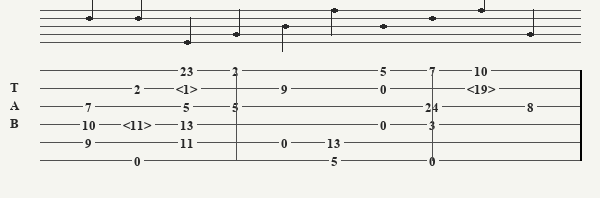0: (134, 154, 145, 167), (281, 136, 292, 149), (380, 118, 391, 131), (380, 82, 391, 95), (429, 154, 440, 167)
10: (82, 118, 100, 131), (474, 64, 492, 77)
11: (180, 136, 198, 149)
13: (180, 118, 198, 131), (327, 136, 345, 149)
2: (134, 82, 145, 95), (232, 64, 243, 77)
23: (180, 64, 198, 77)
24: (425, 100, 443, 113)
3: (429, 118, 440, 131)
5: (183, 100, 194, 113), (232, 100, 243, 113), (331, 154, 342, 167), (380, 64, 391, 77)
7: (85, 100, 96, 113), (429, 64, 440, 77)
8: (527, 100, 538, 113)
9: (85, 136, 96, 149), (281, 82, 292, 95)
harmonic: (123, 118, 156, 131), (467, 82, 500, 95), (176, 82, 202, 95)
